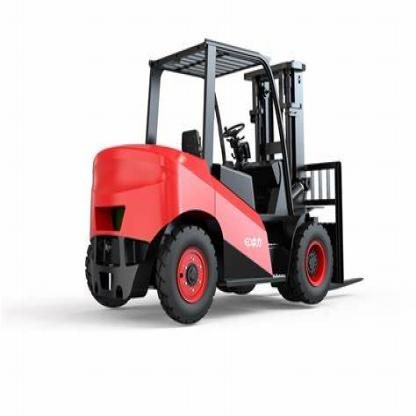forklift: (83, 37, 364, 325)
